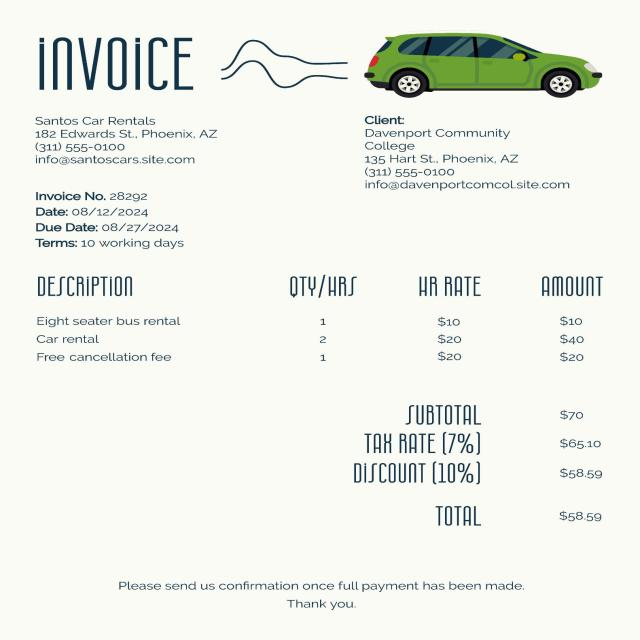paragraph: (350, 396, 616, 532), (361, 112, 575, 192), (116, 576, 526, 614), (30, 32, 201, 94), (34, 188, 194, 252), (34, 117, 219, 166)
table: (25, 271, 607, 368)
